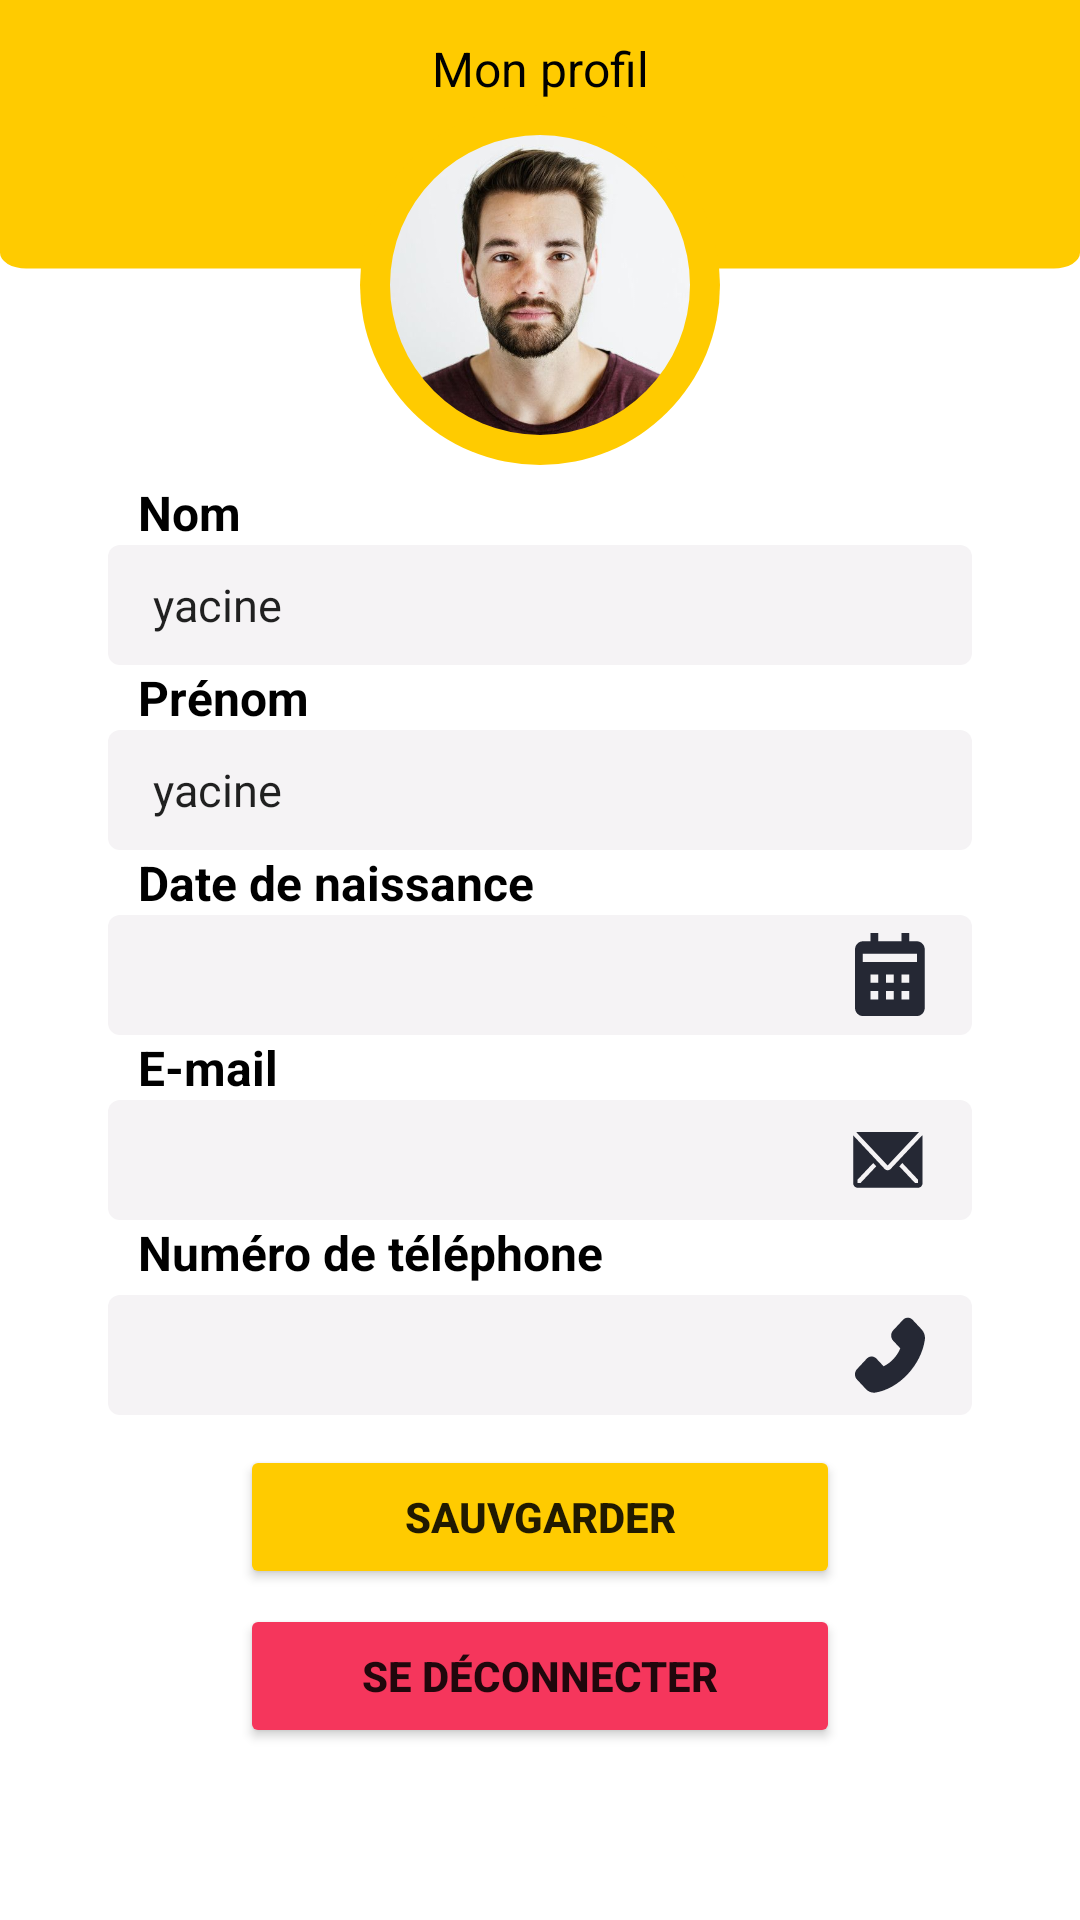

Icon click points for this 1080px×1920px phone screenshot, format (x,y):
calendar: (890,974)
